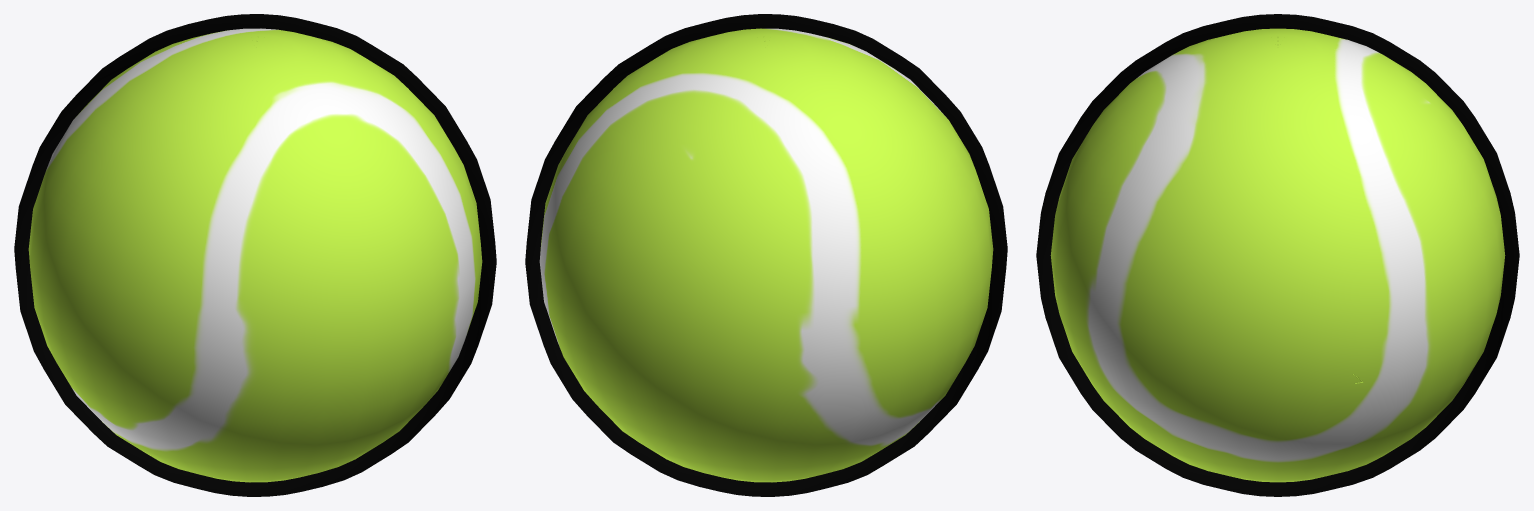
Rendered from TennisBallV1.fbx.
3 views of the same model, side by side, from view 1: azimuth 30°, elevation 25°; view 2: azimuth 150°, elevation 25°; view 3: azimuth 270°, elevation 25° (orthographic).
Visible parts, largest first — view 1: Sphere; view 2: Sphere; view 3: Sphere.
Part boxes in pixels (x1,y1,x2,y2): Sphere: (14, 14, 496, 496); Sphere: (525, 14, 1007, 496); Sphere: (1036, 14, 1519, 496).
Size of the model in its own units: 100 by 100 by 100.
Materials: 2 (1 with a texture image).
